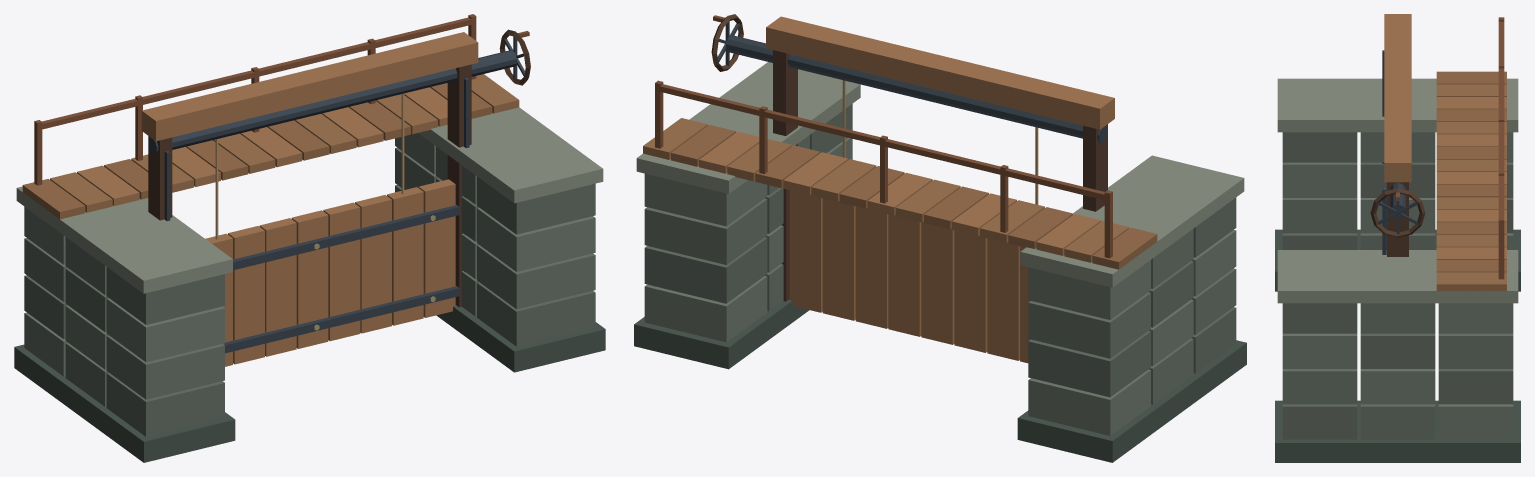
File: sluice.glb
3 views of the same model, side by side, from view 1: azimuth 30°, elevation 25°; view 2: azimuth 150°, elevation 25°; view 3: azimuth 270°, elevation 25° (orthographic). The views are drawn at different scales.
Parts seen in each view (by area): view 1: geometry, gate; view 2: geometry, gate; view 3: geometry.
Boxes of the visible parts, x1,y1,x2,y2 form: geometry: (14,14,605,462); gate: (205,179,459,366); geometry: (634,14,1246,462); gate: (789,190,1030,363); geometry: (1275,14,1520,462).
Size of the model in its own units: 5.96 by 3.48 by 2.9.
